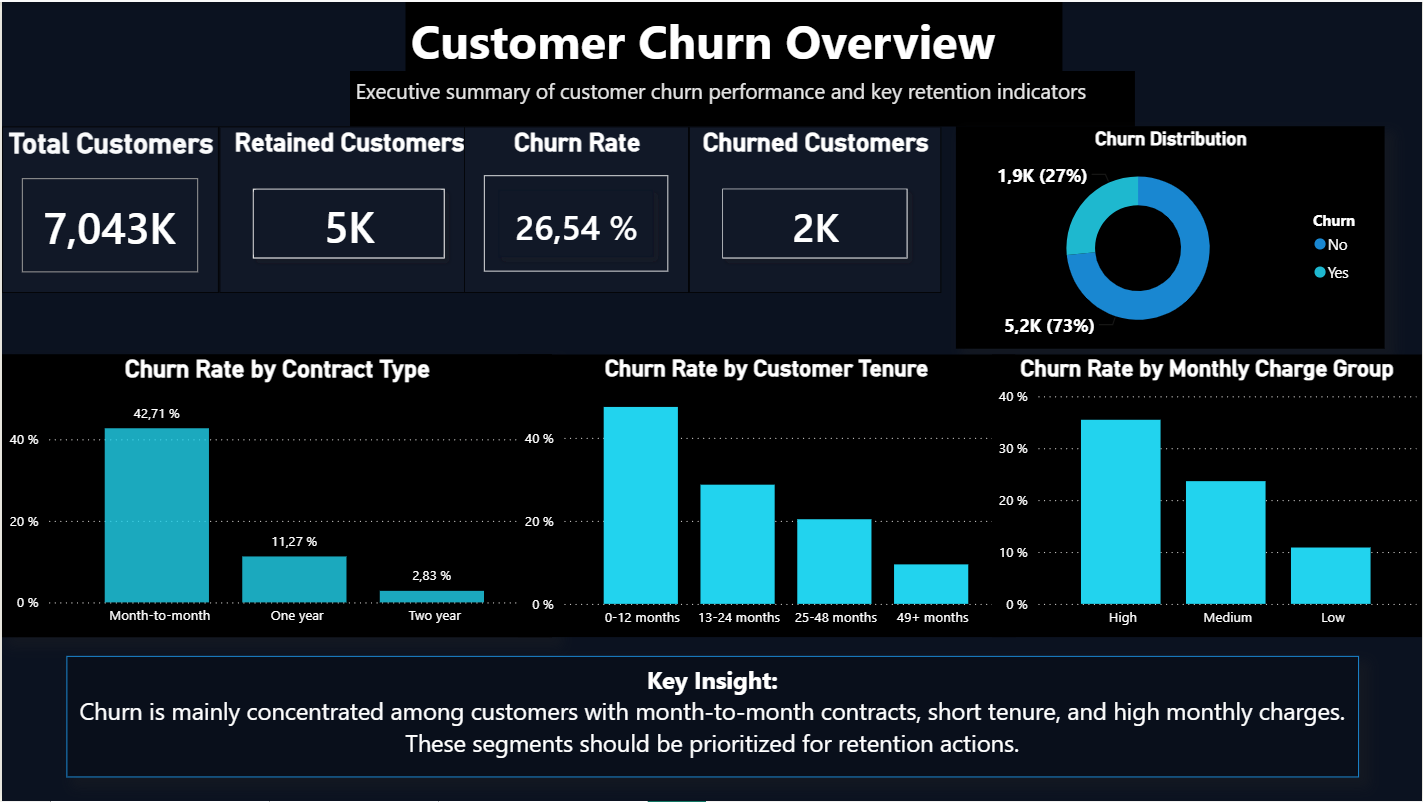

The page's visual inventory and layout, read from the dashboard file:
{"tool":"powerbi","page":{"name":"Executive Overview","canvas":[1280,720],"ordinal":0},"visuals":[{"type":"textbox","box":[363.9,0,592.1,67.8],"z":0},{"type":"textbox","box":[313.4,62.1,707.1,50],"z":1000},{"type":"cardVisual","title":"Total Customers","fields":{"Data":["Count(customer_churn_final (1).customerID)"]},"box":[13.6,112.1,195.3,149.9],"z":2000},{"type":"cardVisual","title":"Churned Customers","fields":{"Data":["customer_churn_final (1).Churned Customers"]},"box":[619.3,112.1,207.4,149.9],"z":3000},{"type":"cardVisual","title":"Retained Customers","fields":{"Data":["customer_churn_final (1).Retained Customers"]},"box":[209,112.1,207.4,149.9],"z":4000},{"type":"cardVisual","title":"Churn Rate","fields":{"Data":["customer_churn_final (1).Churn Rate"]},"box":[416.4,112.1,202.9,149.9],"z":5000},{"type":"donutChart","title":"Churn Distribution","fields":{"Category":["customer_churn_final (1).Churn"],"Y":["Count(customer_churn_final (1).customerID)"]},"box":[860.1,112.1,386.1,199.9],"z":6000},{"type":"columnChart","title":"Churn Rate by Contract Type","fields":{"Category":["customer_churn_final (1).Contract"],"Y":["customer_churn_final (1).Churn Rate"]},"box":[0,318,495.1,254.4],"z":7000},{"type":"columnChart","title":"Churn Rate by Customer Tenure","fields":{"Category":["customer_churn_final (1).Tenure_Group"],"Y":["customer_churn_final (1).Churn Rate"]},"box":[464.9,318,448.2,254.4],"z":8000},{"type":"columnChart","title":"Churn Rate by Monthly Charge Group","fields":{"Category":["customer_churn_final (1).Monthly_Charge_Group"],"Y":["customer_churn_final (1).Churn Rate"]},"box":[891.9,318,387.6,254.4],"z":9000},{"type":"textbox","box":[57.5,589,1164.4,109],"z":10000}]}

Visuals, with their boxes in screenshot pixels (x1, y1, x2, y2), scaled from the page's 1280x720 canvas onto the 1423x802 screenshot:
textbox: locate(405, 0, 1063, 76)
textbox: locate(348, 69, 1135, 125)
"Total Customers" cardVisual: locate(15, 125, 232, 292)
"Churned Customers" cardVisual: locate(688, 125, 919, 292)
"Retained Customers" cardVisual: locate(232, 125, 463, 292)
"Churn Rate" cardVisual: locate(463, 125, 688, 292)
"Churn Distribution" donutChart: locate(956, 125, 1385, 348)
"Churn Rate by Contract Type" columnChart: locate(0, 354, 550, 638)
"Churn Rate by Customer Tenure" columnChart: locate(517, 354, 1015, 638)
"Churn Rate by Monthly Charge Group" columnChart: locate(992, 354, 1422, 638)
textbox: locate(64, 656, 1358, 777)
